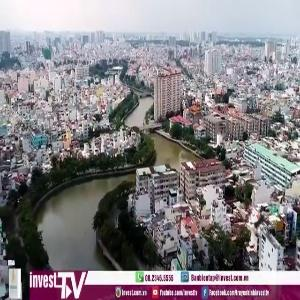drone: (237, 198, 289, 250)
